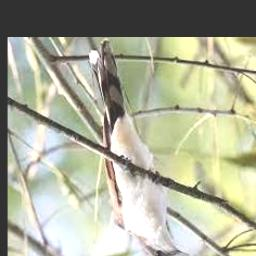Cuckoo: (88, 38, 190, 256)
